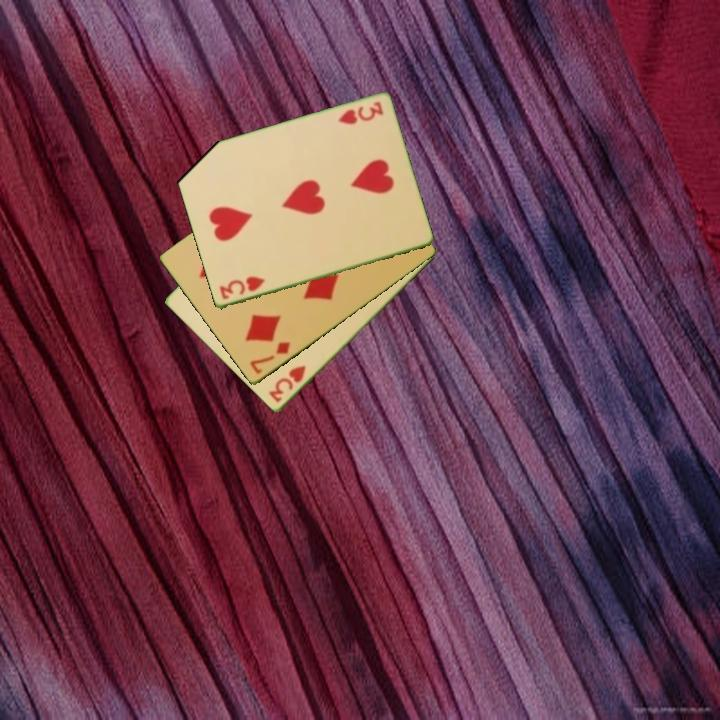3h: (265, 362, 309, 406), (334, 98, 386, 128), (216, 273, 268, 302)
7d: (246, 338, 294, 377)
